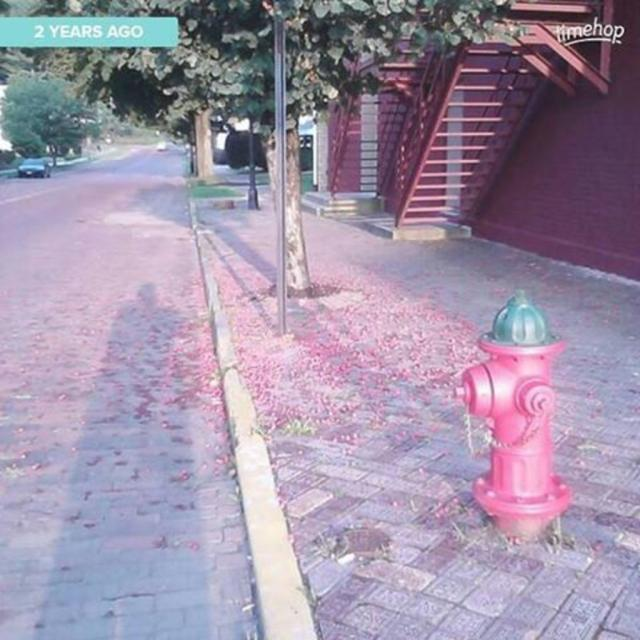fire_hydrant: (455, 287, 565, 540)
